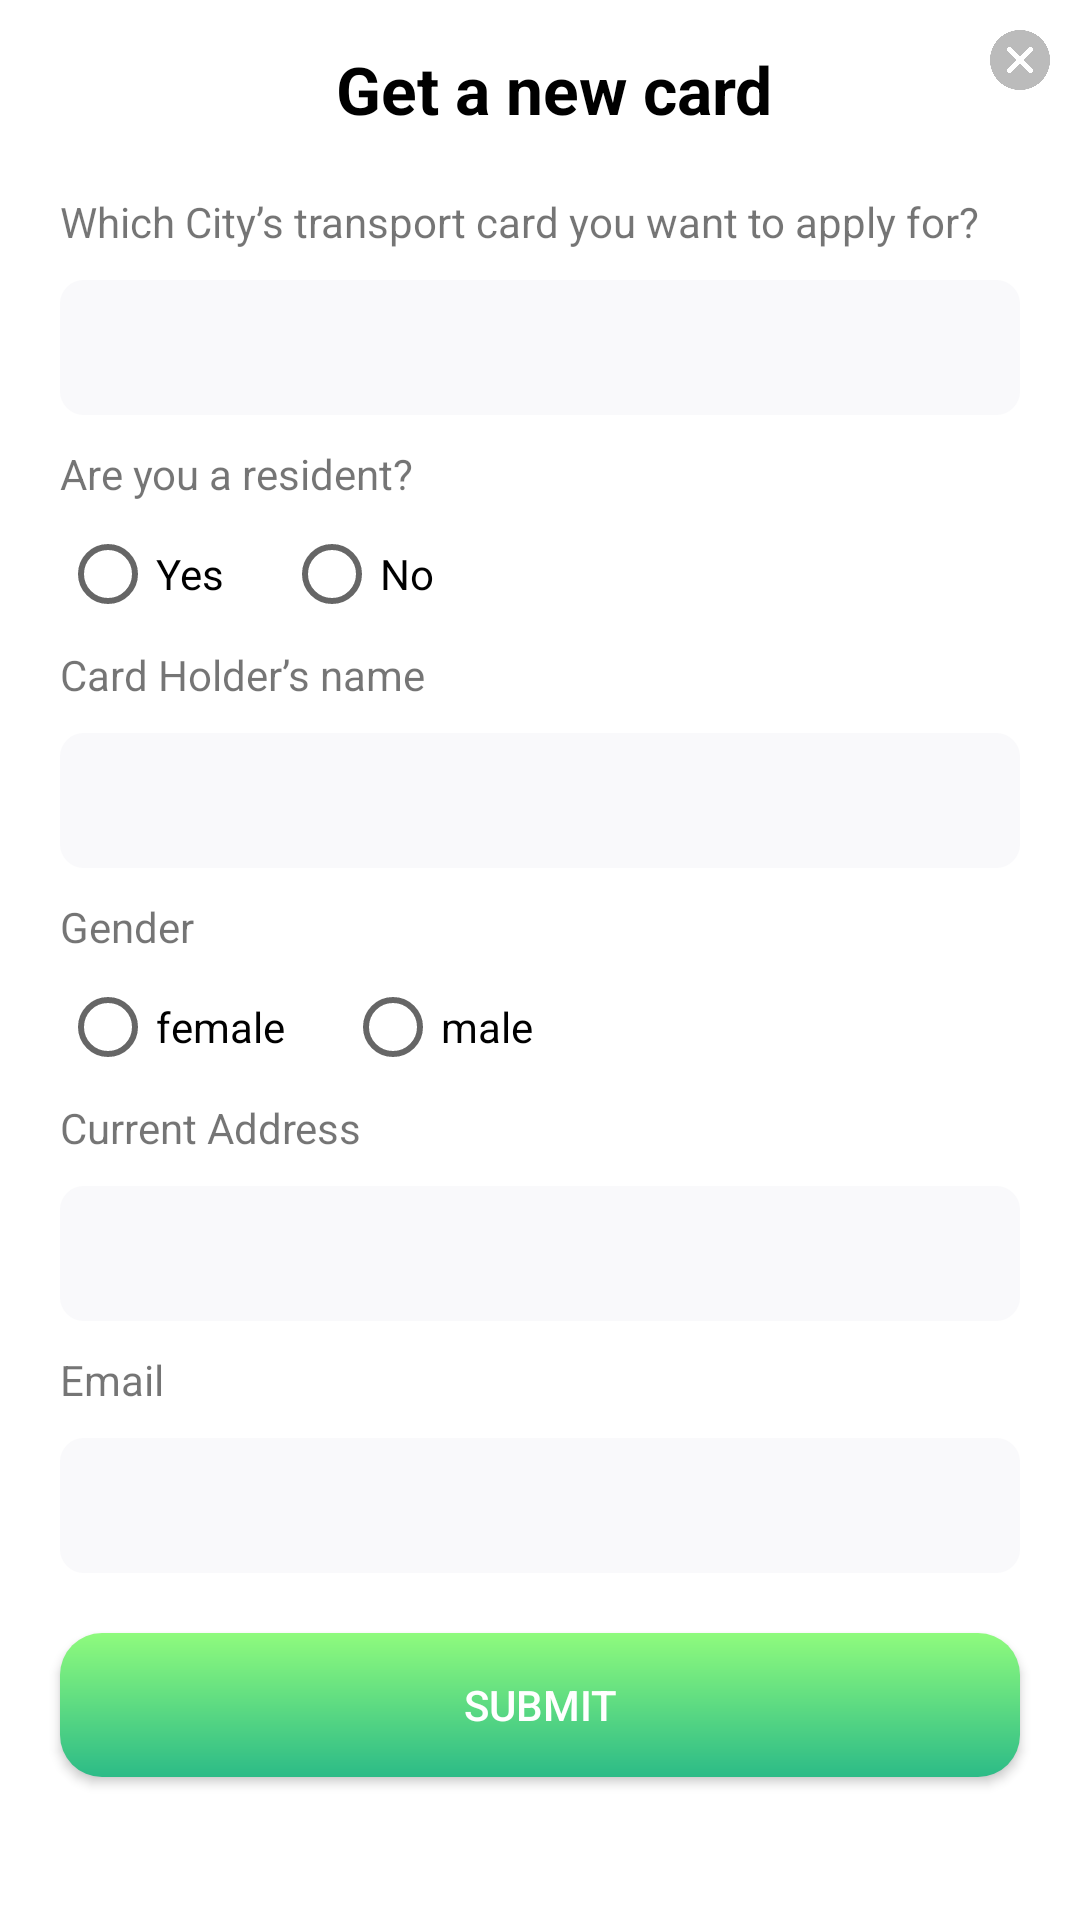

Icon bounding boxes for this 1080×1920 phone screenshot, format (x1, y1, x2, y2):
cancel: (990, 30, 1050, 90)
